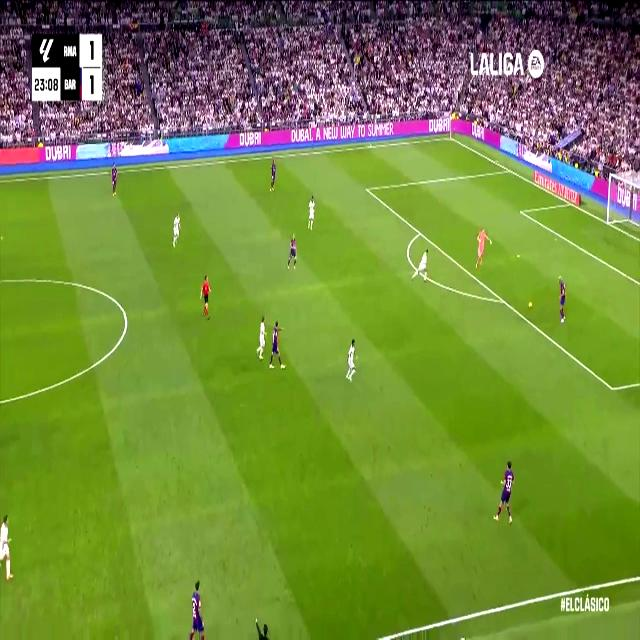bigarea_bottom_inner: (608, 376, 618, 399)
bigarea_top_inner: (364, 182, 370, 196)
bigarea_top_outter: (506, 164, 512, 175)
bottom_arc_area_intersection: (498, 292, 507, 308)
corner: (447, 132, 454, 142)
smallarea_top_inner: (518, 205, 524, 216)
top_arc_area_intersection: (417, 224, 423, 238)
